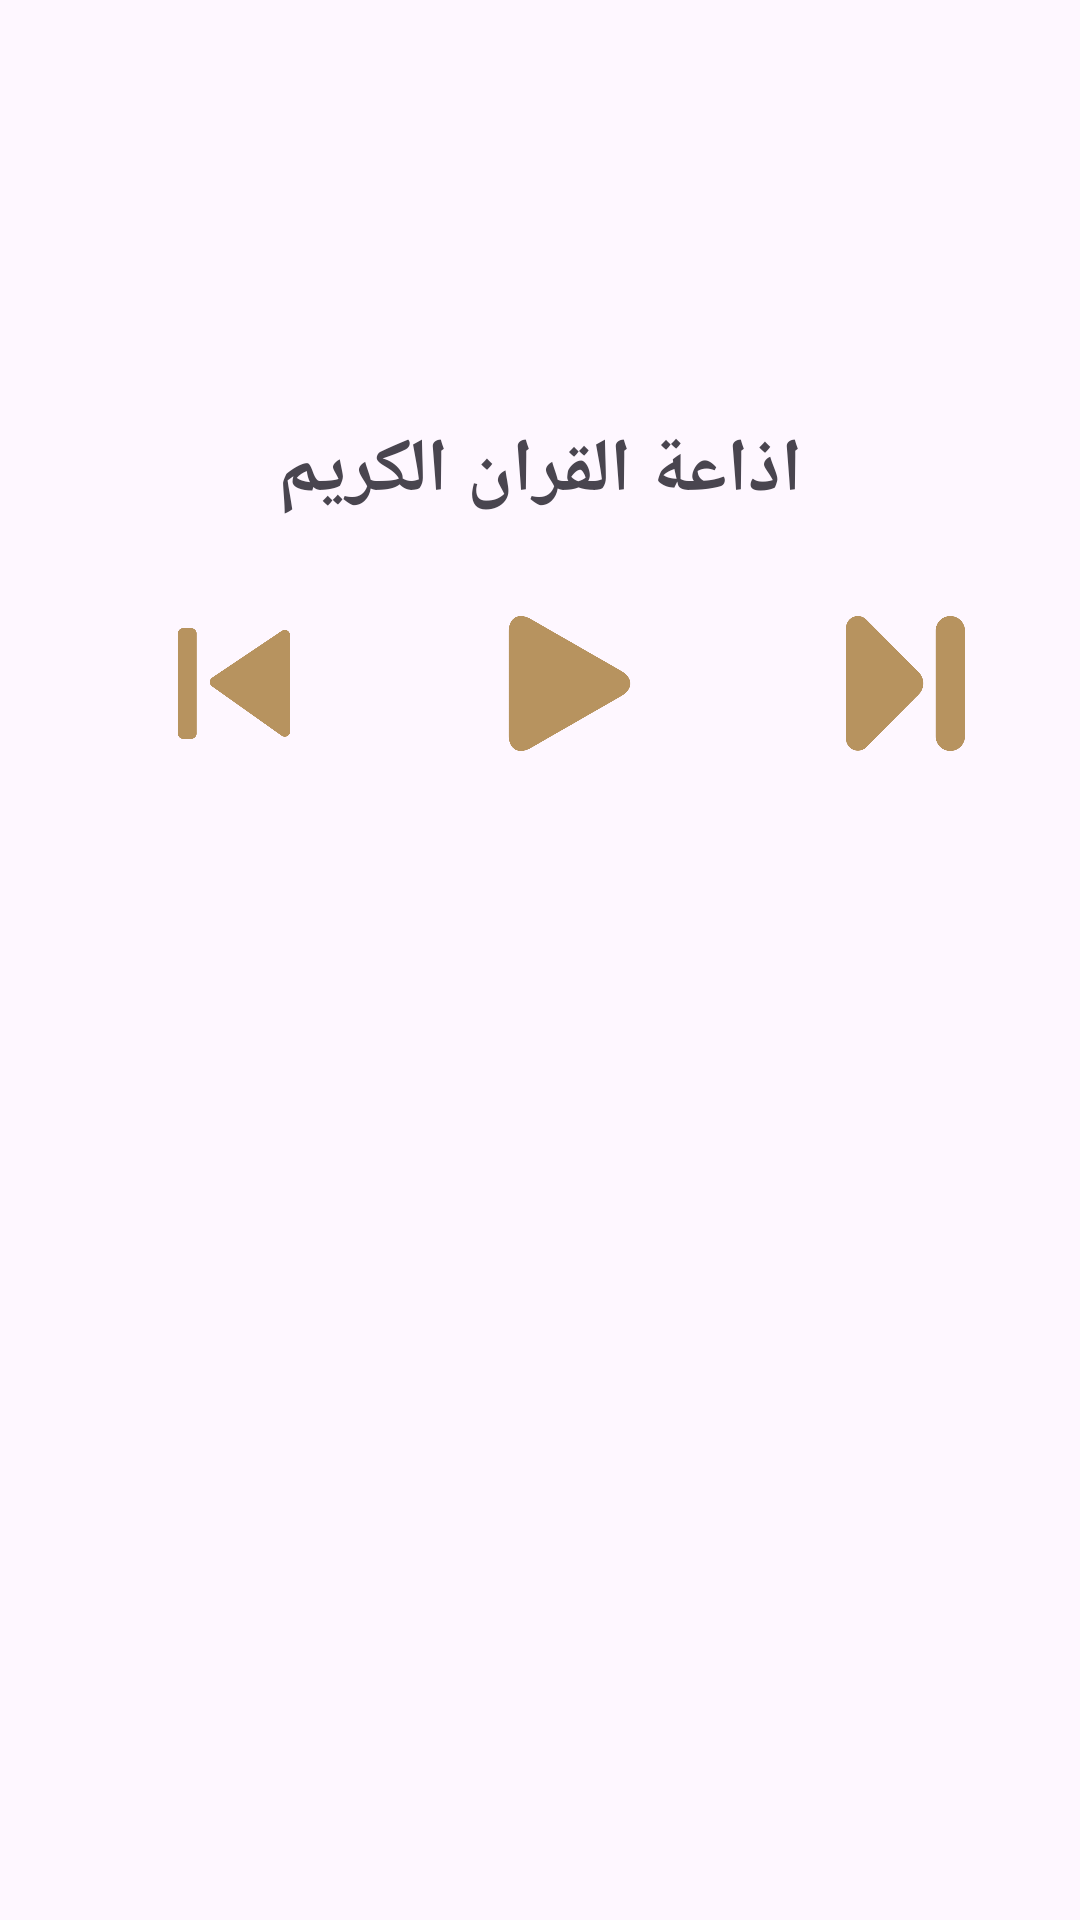

Icon bounding boxes for this 1080px x 1920px phone screenshot, format Rect(x1, y1, x2, y2):
back stop: Rect(178, 628, 290, 739)
